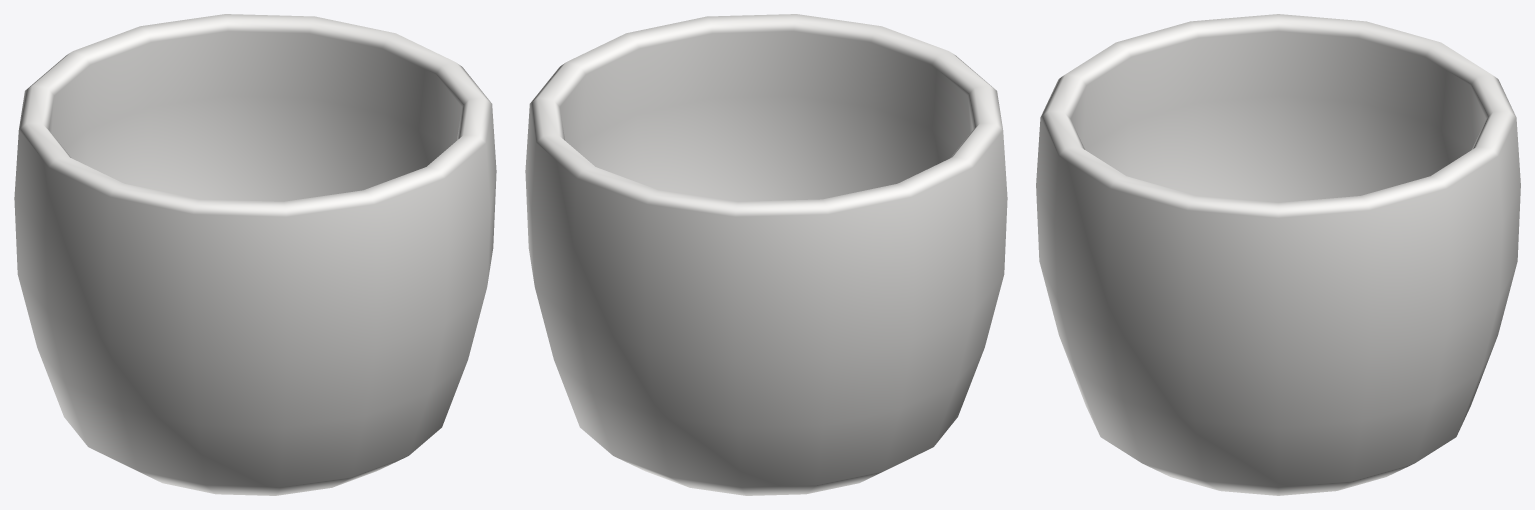
File: Cup_1.glb
3 renders of one model, left to right at view 1: azimuth 30°, elevation 25°; view 2: azimuth 150°, elevation 25°; view 3: azimuth 270°, elevation 25°, orthographic.
Visible parts, largest first — view 1: Cup_1; view 2: Cup_1; view 3: Cup_1.
Part boxes in pixels (x1,y1,x2,y2): Cup_1: [14, 14, 496, 495]; Cup_1: [525, 14, 1007, 495]; Cup_1: [1036, 14, 1520, 495].
Size of the model in its own units: 0.1109 by 0.0808 by 0.1109.
1 material, 1 textured.
